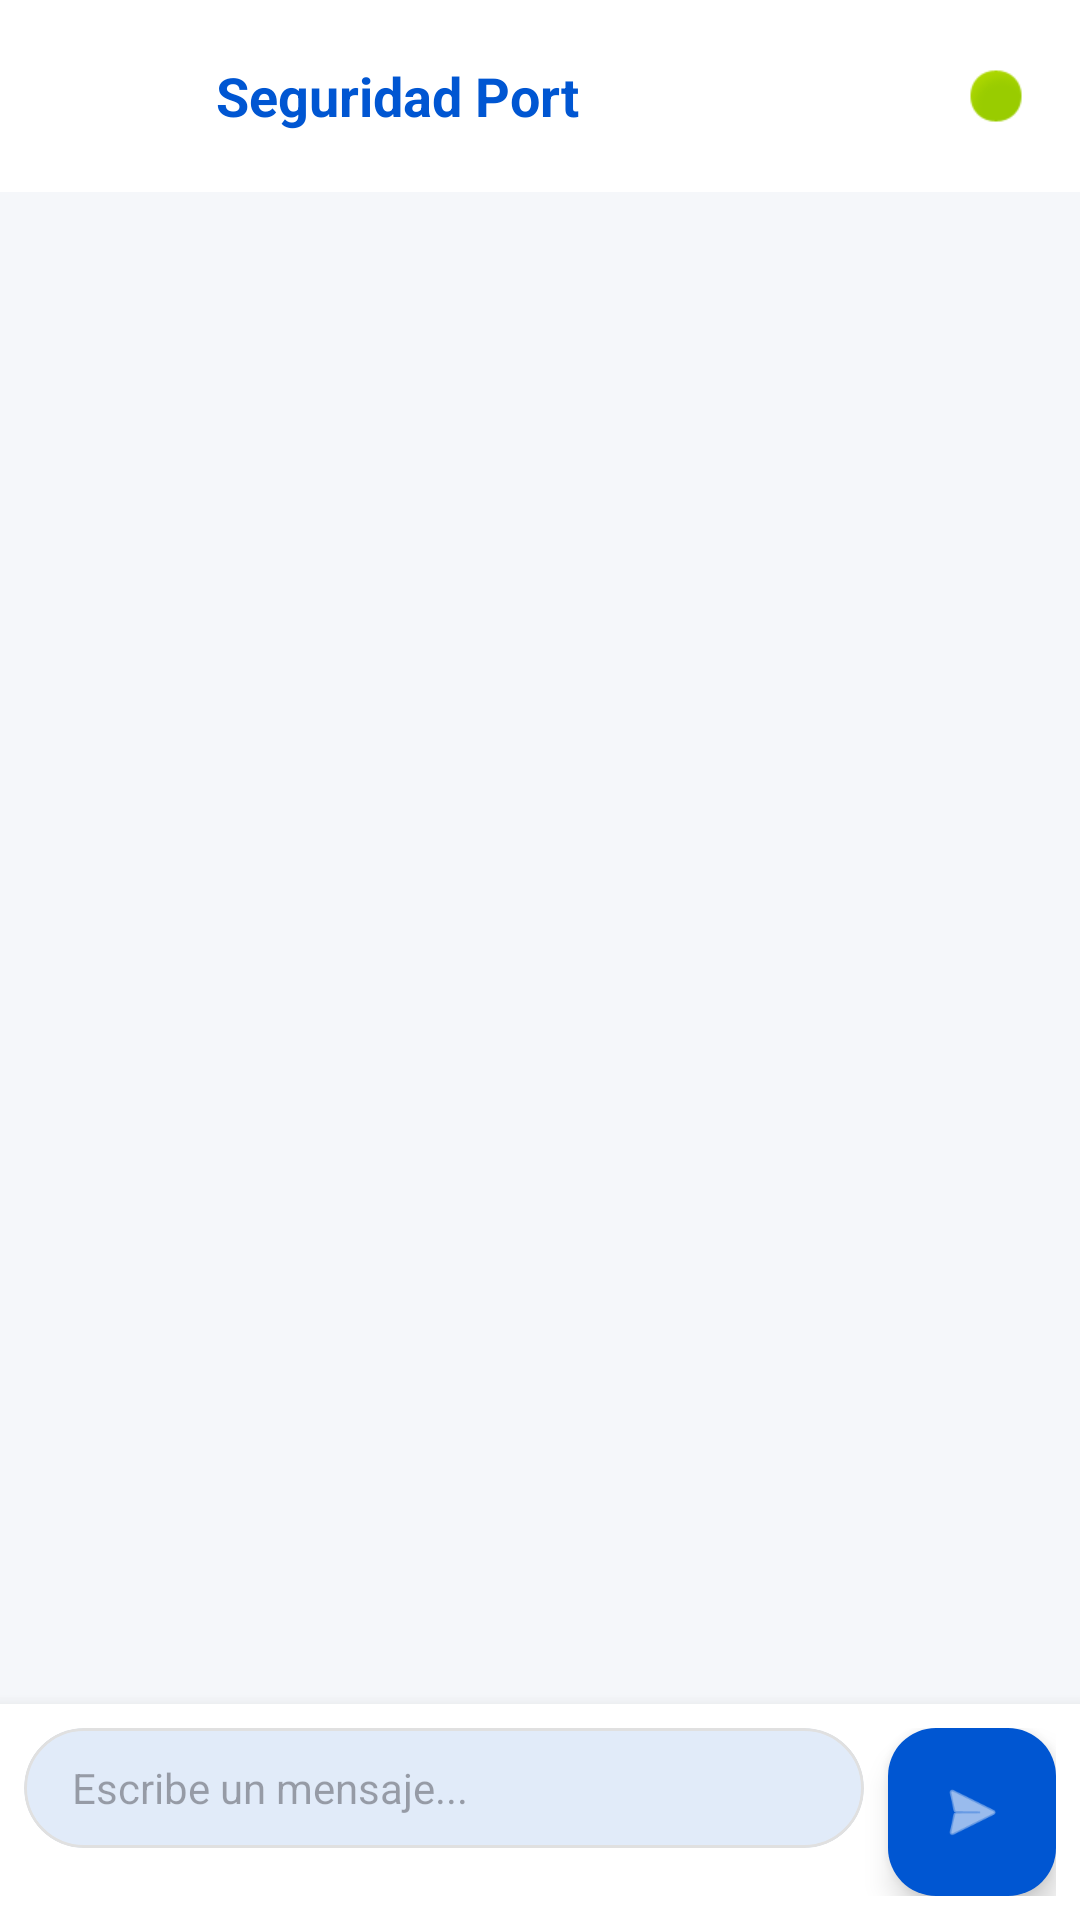

Screen size 1080*1920. Icon name, then its box in pixels as (x1, y1, x2, y2):
presence online: (970, 70, 1022, 122)
send: (888, 1728, 1056, 1896)
